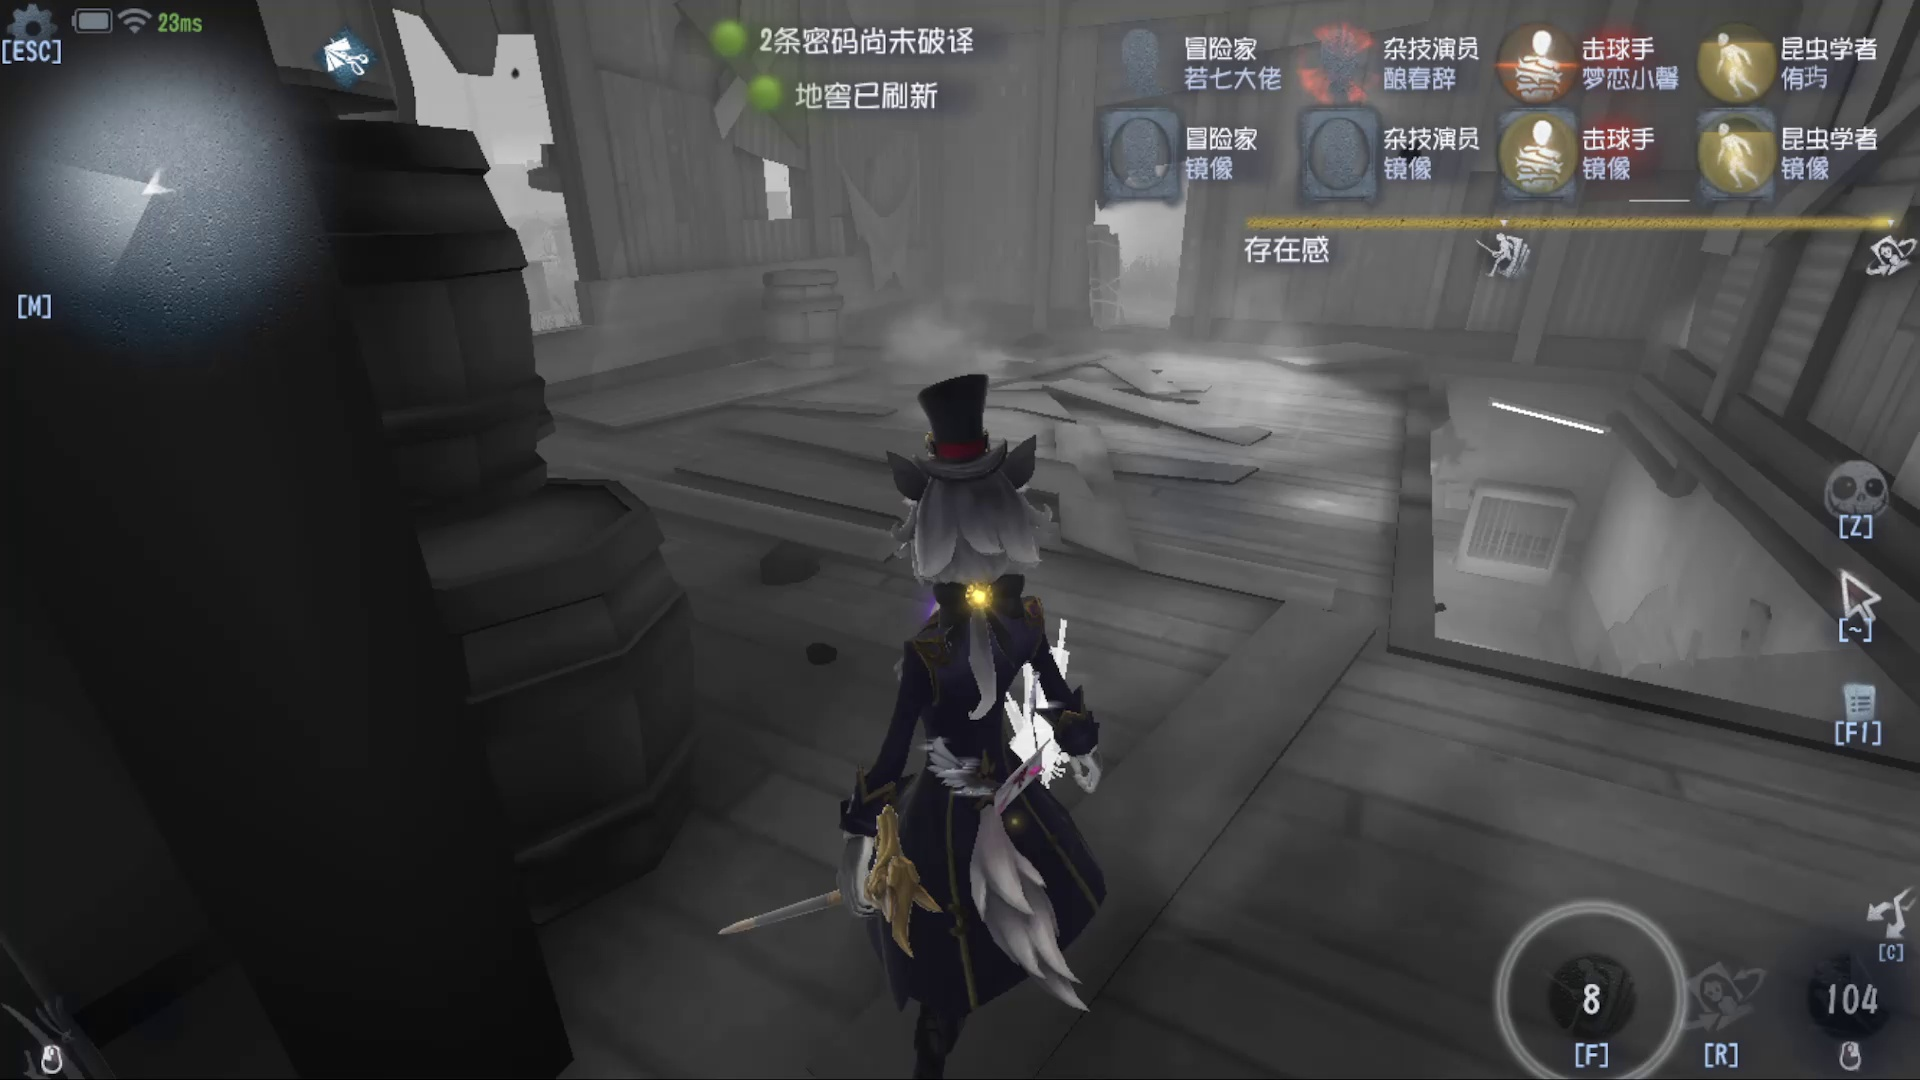木板: (1062, 211, 1131, 334)
